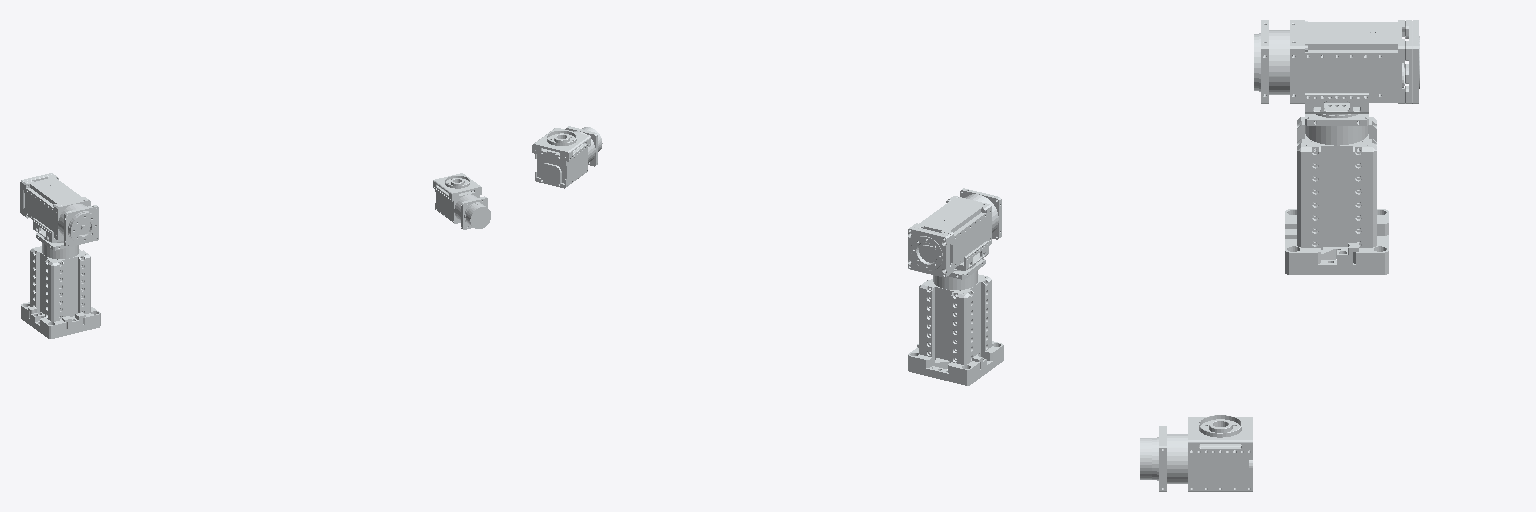
The robot description file, URDF, robot "single_arm_v22_19cm":
<?xml version="1.0" encoding="utf-8"?>
<!-- This URDF was automatically created by SolidWorks to URDF Exporter! Originally created by [author] ([email redacted]) 
     Commit Version: 1.6.0-4-g7f85cfe  Build Version: 1.6.7995.38578
     For more information, please see http://wiki.ros.org/sw_urdf_exporter -->
<robot
  name="single_arm_v22_19cm">
  <link name="dummy"/>
  <joint name="dummy_joint" type="fixed">
    <parent link="dummy"/>
    <child link="base_link"/>
    </joint>
  <link name='base_link'>
  <!-- <link
    name="base_link"> -->
    <inertial>
      <origin
        xyz="-0.00010098 -0.00035109 0.054127"
        rpy="0 0 0" />
      <mass
        value="2.94316" />
      <inertia
        ixx="0.00082016"
        ixy="3.555E-10"
        ixz="-4.1821E-06"
        iyy="0.00081979"
        iyz="-1.4527E-07"
        izz="0.00035328" />
    </inertial>
    <visual>
      <origin
        xyz="0 0 0"
        rpy="0 0 0" />
      <geometry>
        <mesh
          filename="package://single_arm_v22_19cm/meshes/base_link.STL" />
      </geometry>
      <material
        name="">
        <color
          rgba="0.89804 0.91765 0.92941 1" />
      </material>
    </visual>
    <collision>
      <origin
        xyz="0 0 0"
        rpy="0 0 0" />
      <geometry>
        <mesh
          filename="package://single_arm_v22_19cm/meshes/base_link.STL" />
      </geometry>
    </collision>
  </link>
  <link
    name="link1">
    <inertial>
      <origin
        xyz="3.305E-06 0.0036146 0.029085"
        rpy="0 0 0" />
      <mass
        value="0.93428" />
      <inertia
        ixx="0.00048112"
        ixy="-7.0827E-08"
        ixz="-3.5566E-10"
        iyy="0.00018986"
        iyz="4.1821E-06"
        izz="0.0004948" />
    </inertial>
    <visual>
      <origin
        xyz="0 0 0"
        rpy="0 0 0" />
      <geometry>
        <mesh
          filename="package://single_arm_v22_19cm/meshes/link1.STL" />
      </geometry>
      <material
        name="">
        <color
          rgba="0.89804 0.91765 0.92941 1" />
      </material>
    </visual>
    <collision>
      <origin
        xyz="0 0 0"
        rpy="0 0 0" />
      <geometry>
        <mesh
          filename="package://single_arm_v22_19cm/meshes/link1.STL" />
      </geometry>
    </collision>
  </link>
  <joint
    name="joint1"
    type="revolute">
    <origin
      xyz="0 0 0.1445"
      rpy="0 0 0" />
    <parent
      link="base_link" />
    <child
      link="link1" />
    <axis
      xyz="0 0 1" />
    <limit
      lower="-3.14"
      upper="3.14"
      effort="0"
      velocity="0" />
  </joint>
  <link
    name="link2">
    <inertial>
      <origin
        xyz="0.24012814792212073 2.033119680294266e-06 0.013246731868140259"
        rpy="0 0 0" />
      <mass
        value="0.4749073641101887"  />
      <inertia
        ixx="0.0009460509872811137"
        ixy="4.863802300098385e-08"
        ixz="-0.0007595877946933643"
        iyy="0.004009204305271554"
        iyz="-1.7174352031655893e-08"
        izz="0.0032588236518954136" />
    </inertial>
    <visual>
      <origin
        xyz="0 0 0"
        rpy="0 0 0" />
      <geometry>
        <mesh
          filename="package://dynamics/src/dynamics/meshes/single_arm_v22_19cm_2_19.0.STL" />
      </geometry>
      <material
        name="">
        <color
          rgba="0.89804 0.91765 0.92941 1" />
      </material>
    </visual>
    <collision>
      <origin
        xyz="0 0 0"
        rpy="0 0 0" />
      <geometry>
        <mesh
          filename="package://single_arm_v22_19cm/meshes/link2.STL" />
      </geometry>
    </collision>
  </link>
  <joint
    name="joint2"
    type="revolute">
    <origin
      xyz="0 -0.0685 0.0315"
      rpy="1.5708 0 0" />
    <parent
      link="link1" />
    <child
      link="link2" />
    <axis
      xyz="0 0 1" />
    <limit
      lower="-3.14"
      upper="3.14"
      effort="0"
      velocity="0" />
  </joint>
  <link
    name="link3">
    <inertial>
      <origin
        xyz="0.23114585106765023 1.6081545650122893e-07 -0.012429772770422119"
        rpy="0 0 0" />
      <mass
        value="0.4508048439271571"  />
      <inertia
        ixx="0.0007261411773385291"
        ixy="1.718782172750919e-08"
        ixz="0.0005254961214817812"
        iyy="0.0037004746498844544"
        iyz="-6.075710978199373e-10"
        izz="0.003155523429480458" />
    </inertial>
    <visual>
      <origin
        xyz="0 0 0"
        rpy="0 0 0" />
      <geometry>
        <mesh
          filename="package://dynamics/src/dynamics/meshes/single_arm_v22_19cm_3_19.0.STL" />
      </geometry>
      <material
        name="">
        <color
          rgba="0.89804 0.91765 0.92941 1" />
      </material>
    </visual>
    <collision>
      <origin
        xyz="0 0 0"
        rpy="0 0 0" />
      <geometry>
        <mesh
          filename="package://single_arm_v22_19cm/meshes/link3.STL" />
      </geometry>
    </collision>
  </link>
  <joint
    name="joint3"
    type="revolute">
    <origin
      xyz="0.304267000820369 0 -0.039"
      rpy="0 0 0" />
    <parent
      link="link2" />
    <child
      link="link3" />
    <axis
      xyz="0 0 -1" />
    <limit
      lower="-3.14"
      upper="3.14"
      effort="0"
      velocity="0" />
  </joint>
  <link
    name="link4">
    <inertial>
      <origin
        xyz="2.2204E-16 0.01039 0.02404"
        rpy="0 0 0" />
      <mass
        value="0.36924" />
      <inertia
        ixx="9.4187E-05"
        ixy="1.2869E-19"
        ixz="-1.4501E-16"
        iyy="4.476E-05"
        iyz="5.3346E-07"
        izz="0.0001027" />
    </inertial>
    <visual>
      <origin
        xyz="0 0 0"
        rpy="0 0 0" />
      <geometry>
        <mesh
          filename="package://single_arm_v22_19cm/meshes/link4.STL" />
      </geometry>
      <material
        name="">
        <color
          rgba="0.89804 0.91765 0.92941 1" />
      </material>
    </visual>
    <collision>
      <origin
        xyz="0 0 0"
        rpy="0 0 0" />
      <geometry>
        <mesh
          filename="package://single_arm_v22_19cm/meshes/link4.STL" />
      </geometry>
    </collision>
  </link>
  <joint
    name="joint4"
    type="revolute">
    <origin
      xyz="0.29573299917963103 0 0.039"
      rpy="0 0 -3.14159265358979" />
    <parent
      link="link3" />
    <child
      link="link4" />
    <axis
      xyz="0 0 1" />
    <limit
      lower="-3.14"
      upper="3.14"
      effort="0"
      velocity="0" />
  </joint>
  <link
    name="link5">
    <inertial>
      <origin
        xyz="0.028614 0.010457 -3.3307E-16"
        rpy="0 0 0" />
      <mass
        value="0.36821" />
      <inertia
        ixx="0.00010133"
        ixy="5.3346E-07"
        ixz="1.4501E-16"
        iyy="4.3878E-05"
        iyz="-8.1817E-20"
        izz="9.3658E-05" />
    </inertial>
    <visual>
      <origin
        xyz="0 0 0"
        rpy="0 0 0" />
      <geometry>
        <mesh
          filename="package://single_arm_v22_19cm/meshes/link5.STL" />
      </geometry>
      <material
        name="">
        <color
          rgba="0.89804 0.91765 0.92941 1" />
      </material>
    </visual>
    <collision>
      <origin
        xyz="0 0 0"
        rpy="0 0 0" />
      <geometry>
        <mesh
          filename="package://single_arm_v22_19cm/meshes/link5.STL" />
      </geometry>
    </collision>
  </link>
  <joint
    name="joint5"
    type="revolute">
    <origin
      xyz="0 0.052 0.0286"
      rpy="1.5707963267949 0 1.5707963267949" />
    <parent
      link="link4" />
    <child
      link="link5" />
    <axis
      xyz="1 0 0" />
    <limit
      lower="-3.14"
      upper="3.14"
      effort="0"
      velocity="0" />
  </joint>
  <link
    name="link6">
    <inertial>
      <origin
        xyz="-4.44089209850063E-16 5.37938091366846E-07 -0.00700006055550936"
        rpy="0 0 0" />
      <mass
        value="0.0259770442543706" />
      <inertia
        ixx="2.20534281951167E-06"
        ixy="1.78671012311437E-22"
        ixz="-8.79317315621994E-22"
        iyy="2.20534281951168E-06"
        iyz="2.32583060538047E-20"
        izz="3.9777349014505E-06" />
    </inertial>
    <visual>
      <origin
        xyz="0 0 0"
        rpy="0 0 0" />
      <geometry>
        <mesh
          filename="package://single_arm_v22_19cm/meshes/link6.STL" />
      </geometry>
      <material
        name="">
        <color
          rgba="0.898039215686275 0.917647058823529 0.929411764705882 1" />
      </material>
    </visual>
    <collision>
      <origin
        xyz="0 0 0"
        rpy="0 0 0" />
      <geometry>
        <mesh
          filename="package://single_arm_v22_19cm/meshes/link6.STL" />
      </geometry>
    </collision>
  </link>
  <joint
    name="joint6"
    type="revolute">
    <origin
      xyz="0.0330005379381037 0.0549999394444907 0"
      rpy="1.57079632679488 -1.5707963267949 0" />
    <parent
      link="link5" />
    <child
      link="link6" />
    <axis
      xyz="0 0 1" />
    <limit
      lower="-3.14"
      upper="3.14"
      effort="0"
      velocity="0" />
  </joint>
</robot>

--- Facts derived from the render (not from the file) ---
3 views of the same robot in one strip: view 1: azimuth 30°, elevation 25°; view 2: azimuth 150°, elevation 25°; view 3: azimuth 270°, elevation 25° (orthographic).
Model single_arm_v22_19cm with 8 links and 7 joints (6 revolute, 1 fixed), rooted at dummy, posed all joints at 0.
Visible links, largest first — view 1: base_link, link1, link5; view 2: base_link, link1, link5; view 3: base_link, link1, link5.
Boxes of the visible links, bbox=[...] form: base_link: bbox=[21, 233, 100, 338]; link1: bbox=[20, 173, 98, 247]; link5: bbox=[433, 173, 487, 229]; base_link: bbox=[908, 258, 1003, 385]; link1: bbox=[908, 188, 1001, 277]; link5: bbox=[532, 126, 597, 188]; base_link: bbox=[1285, 114, 1388, 274]; link1: bbox=[1254, 20, 1419, 113]; link5: bbox=[1152, 415, 1252, 491].
Bounding box of the posed robot: 0.668 × 0.2331 × 0.203 m (x, y, z).
Meshes: 7 distinct files referenced, 4 mesh visuals loaded (4 binary STL); not drawn: 3 (reference not matched to a file when rendering).